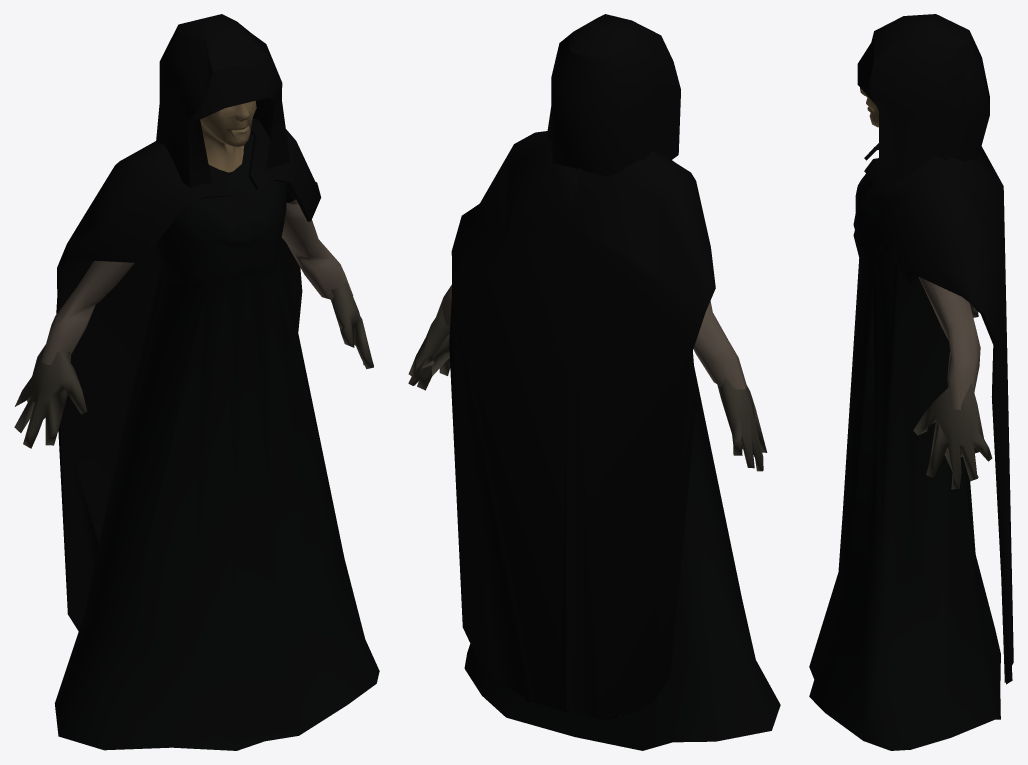
File: Nouveau mage.FBX
The picture shows the model from 3 angles, left to right: view 1: azimuth 30°, elevation 25°; view 2: azimuth 150°, elevation 25°; view 3: azimuth 270°, elevation 25°; orthographic projection. The views are drawn at different scales.
Visible parts, largest first — view 1: Circle_011, Circle_003, Boîte001, SIMONE_BODY_000; view 2: Circle_003, Circle_011, Boîte001, SIMONE_BODY_000; view 3: Circle_011, Circle_003, Boîte001, SIMONE_BODY_000.
Boxes of the visible parts, x1,y1,x2,y2 form: Circle_011: (41,100,379,750); Circle_003: (56,119,321,631); Boîte001: (156,14,290,187); SIMONE_BODY_000: (14,281,373,448); Circle_003: (449,131,715,720); Circle_011: (436,285,780,750); Boîte001: (547,14,680,176); SIMONE_BODY_000: (408,307,767,471); Circle_011: (809,87,1000,750); Circle_003: (864,143,1013,684); Boîte001: (857,14,989,180); SIMONE_BODY_000: (913,303,992,489).
Bounding box in the file's own units: 3.69 × 6.96 × 1.92.
